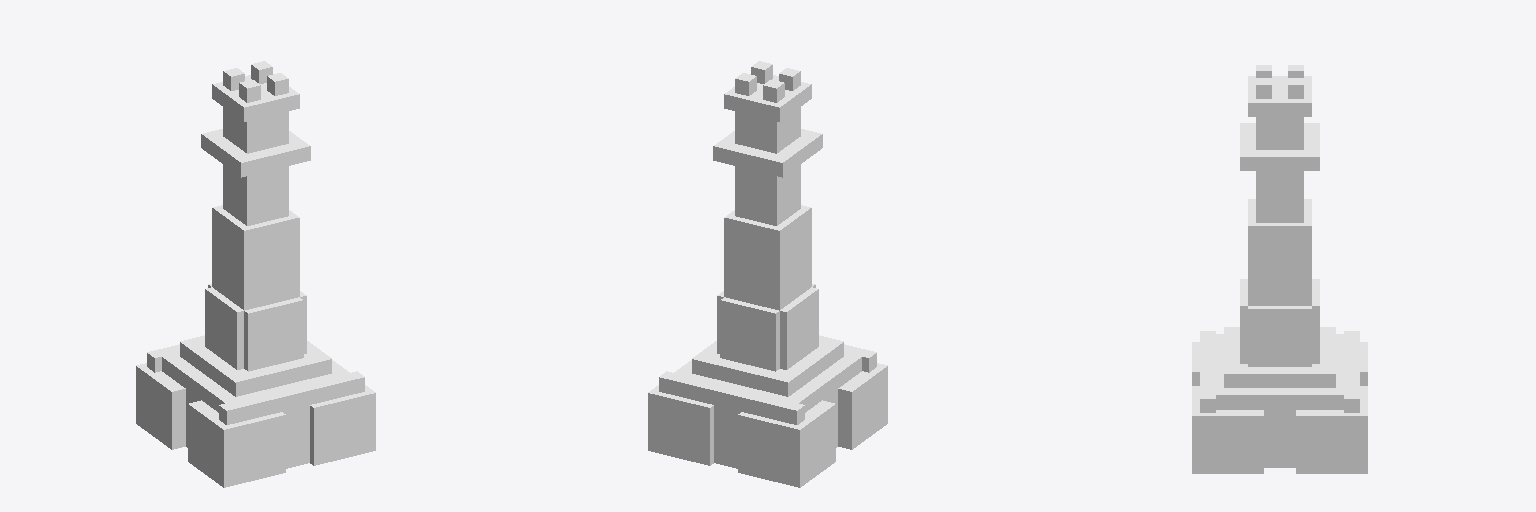
Rendered from king.red.obj.
3 renders of one model, left to right at view 1: azimuth 30°, elevation 25°; view 2: azimuth 150°, elevation 25°; view 3: azimuth 270°, elevation 25°, orthographic.
Parts seen in each view (by area): view 1: object 1; view 2: object 1; view 3: object 1.
Boxes of the visible parts, x1=… form: object 1: x1=136, y1=61, x2=375, y2=487; object 1: x1=648, y1=61, x2=887, y2=487; object 1: x1=1192, y1=65, x2=1367, y2=473.
Size of the model in its own units: 2.2 by 5 by 2.2.